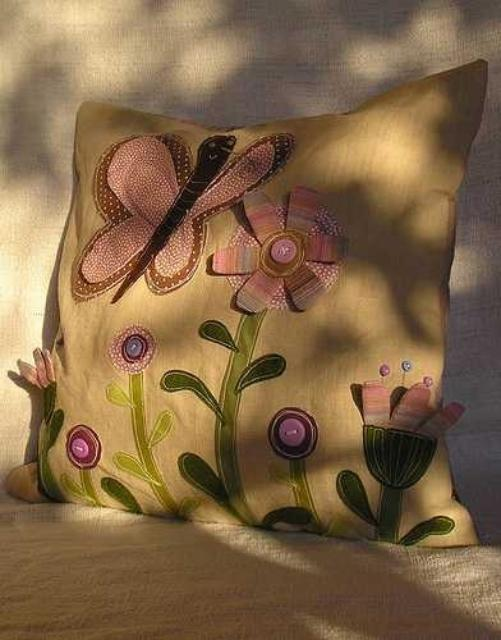pillow: (22, 58, 490, 548)
